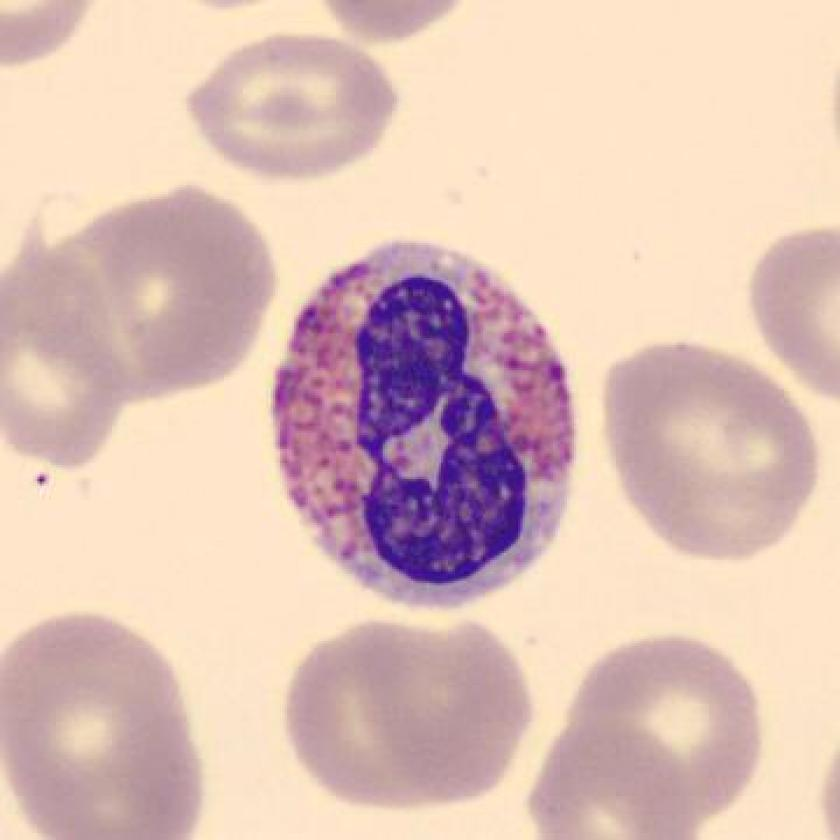eosinophil: (262, 223, 594, 621)
